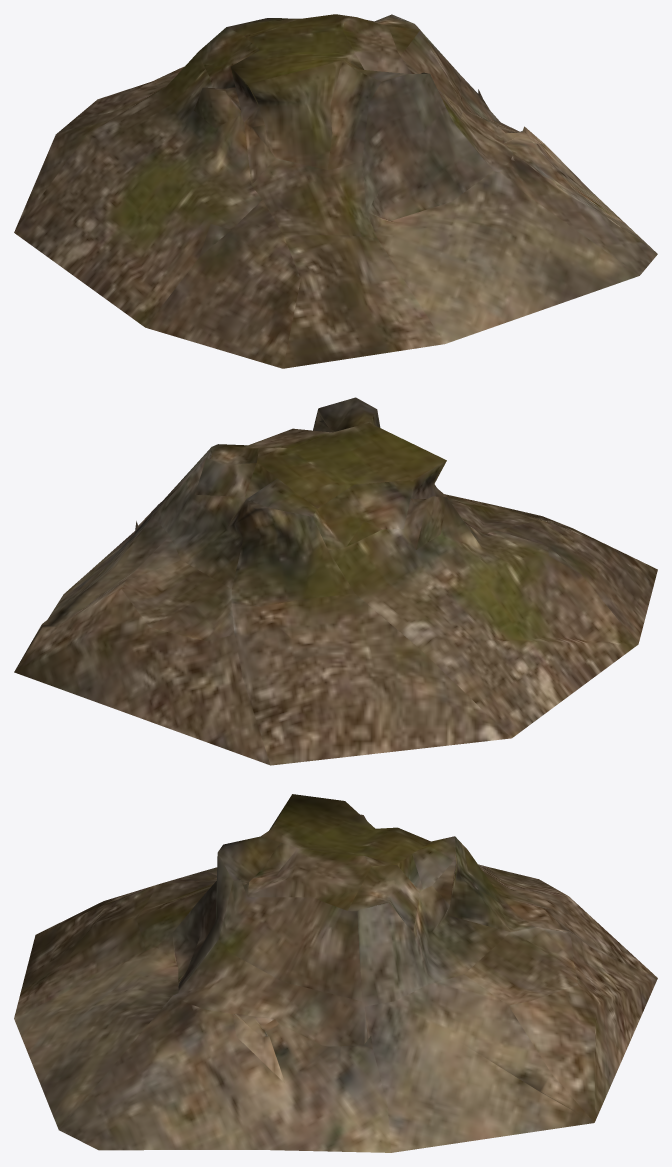
3 renders of one model, top to bottom at view 1: azimuth 30°, elevation 25°; view 2: azimuth 150°, elevation 25°; view 3: azimuth 270°, elevation 25°, orthographic. The views are drawn at different scales.
Visible parts, largest first — view 1: tree_stump_01_lod2; view 2: tree_stump_01_lod2; view 3: tree_stump_01_lod2.
Part boxes in pixels (left/top/right/bottom): tree_stump_01_lod2: left=14, top=14, right=657, bottom=368; tree_stump_01_lod2: left=14, top=397, right=657, bottom=765; tree_stump_01_lod2: left=14, top=794, right=657, bottom=1152.
Bounding box in the file's own units: 1.42 × 0.5403 × 1.57.
Materials: 1 (1 with a texture image).
